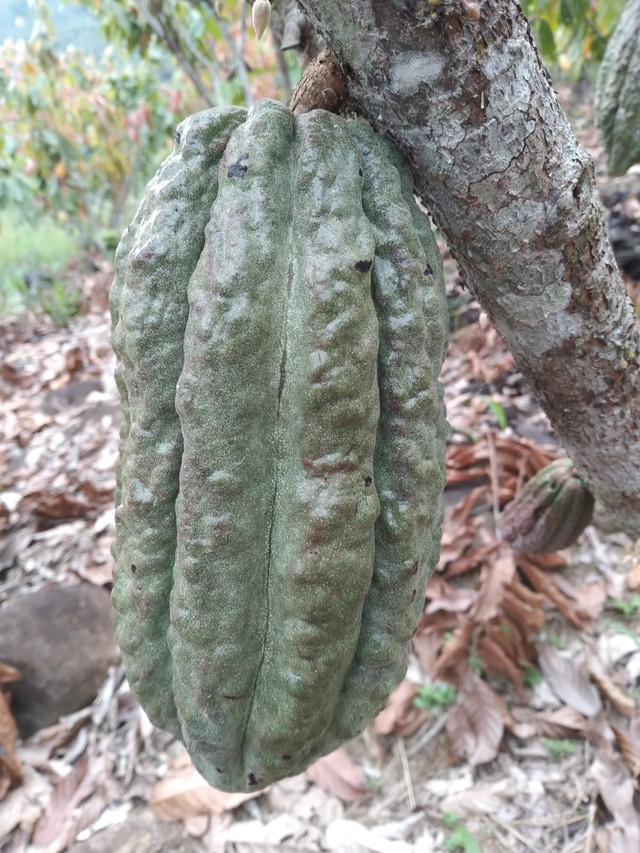Health: (93, 84, 464, 806)
